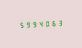five: (17, 21, 23, 28)
four: (38, 20, 44, 27)
nine: (24, 20, 30, 28), (31, 20, 37, 28)
six: (52, 19, 58, 27)
three: (59, 19, 65, 26)
zero: (45, 19, 51, 27)
